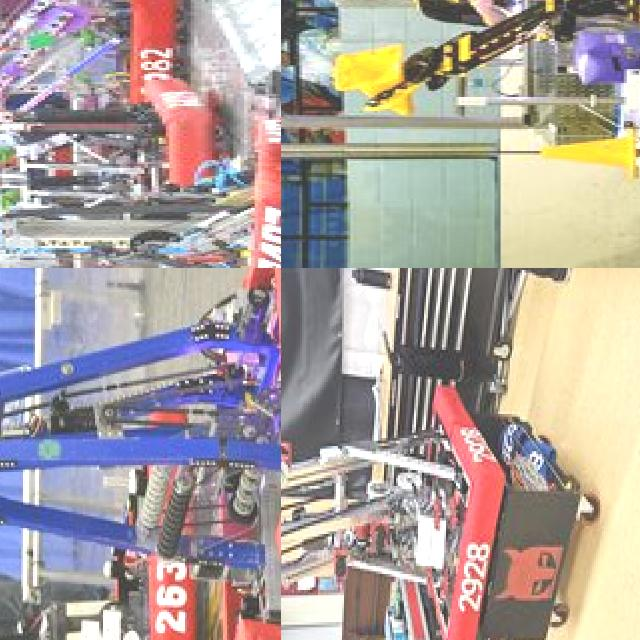FRC-Robots: (0, 268, 281, 640), (281, 370, 502, 640), (299, 0, 640, 152), (0, 106, 281, 268), (0, 68, 243, 220), (0, 0, 206, 148), (0, 528, 205, 640)
